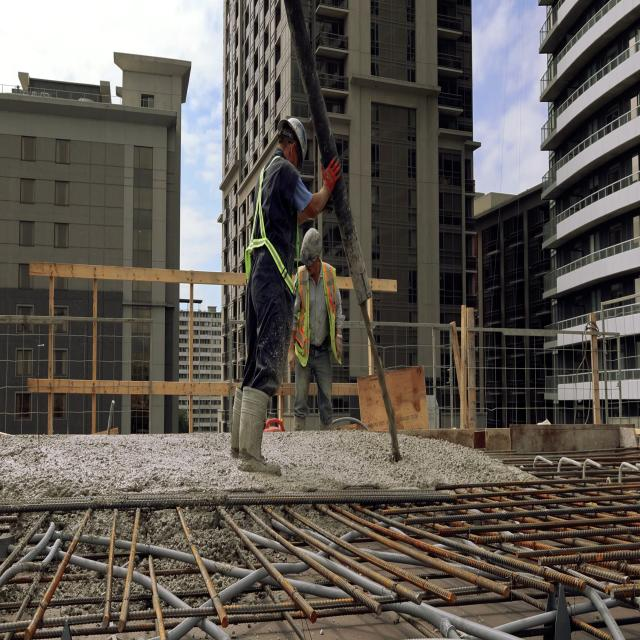gloves: (321, 156, 343, 194)
